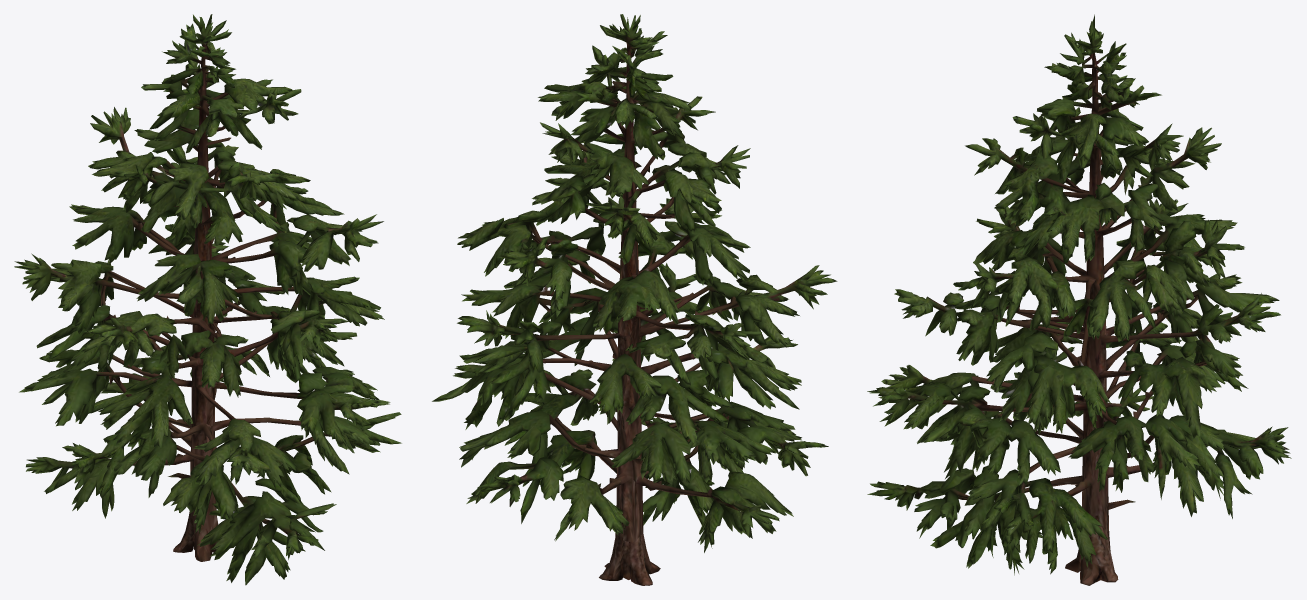
File: CW_HF_AlpineFir_LOD1.fbx
3 views of the same model, side by side, from view 1: azimuth 30°, elevation 25°; view 2: azimuth 150°, elevation 25°; view 3: azimuth 270°, elevation 25° (orthographic). The views are drawn at different scales.
Visible parts, largest first — view 1: CW_HF_AlpineFir_LOD1; view 2: CW_HF_AlpineFir_LOD1; view 3: CW_HF_AlpineFir_LOD1.
Boxes of the visible parts, x1=… form: CW_HF_AlpineFir_LOD1: x1=14, y1=14, x2=401, y2=585; CW_HF_AlpineFir_LOD1: x1=432, y1=14, x2=837, y2=585; CW_HF_AlpineFir_LOD1: x1=867, y1=14, x2=1291, y2=585.
Bounding box in the file's own units: 5.63 × 8.98 × 6.26.
Materials: 1 (1 with a texture image).
